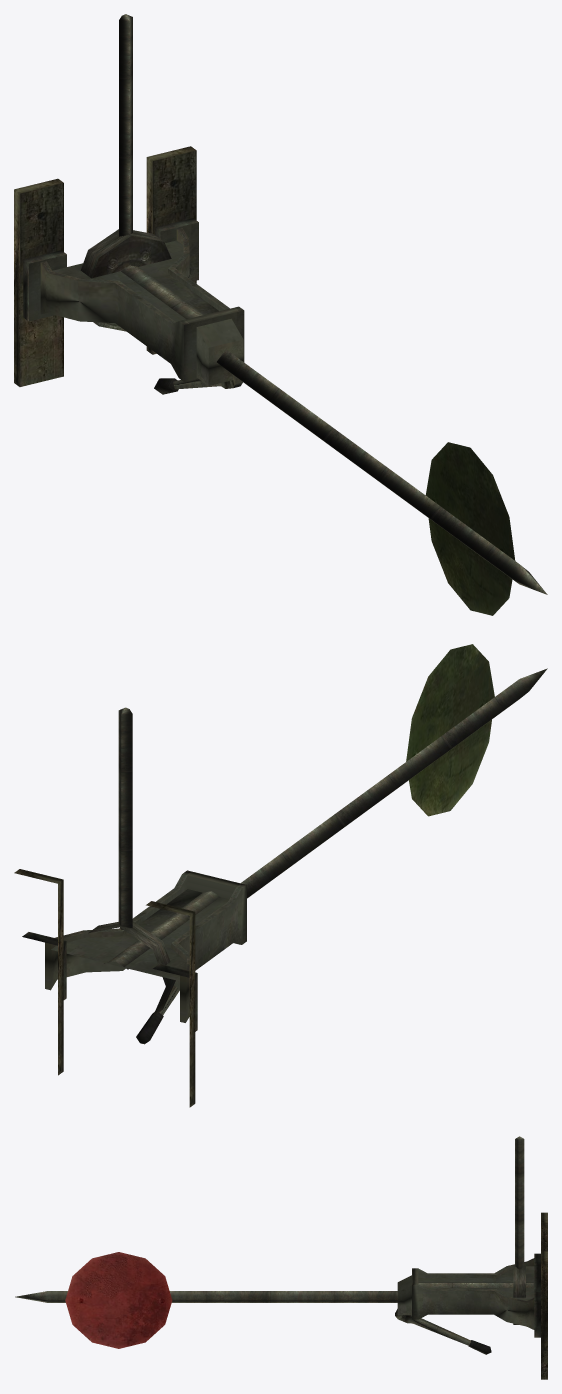
File: prop_railswitch.glb
3 renders of one model, top to bottom at view 1: azimuth 30°, elevation 25°; view 2: azimuth 150°, elevation 25°; view 3: azimuth 270°, elevation 25°, orthographic. The views are drawn at different scales.
Size of the model in its own units: 41.51 by 81.8 by 182.
Materials: 2 (2 with a texture image).
